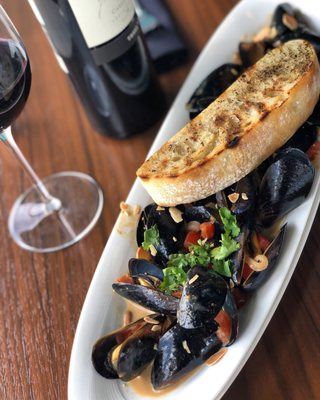soup: (136, 38, 320, 208)
sushi: (64, 99, 318, 398)
